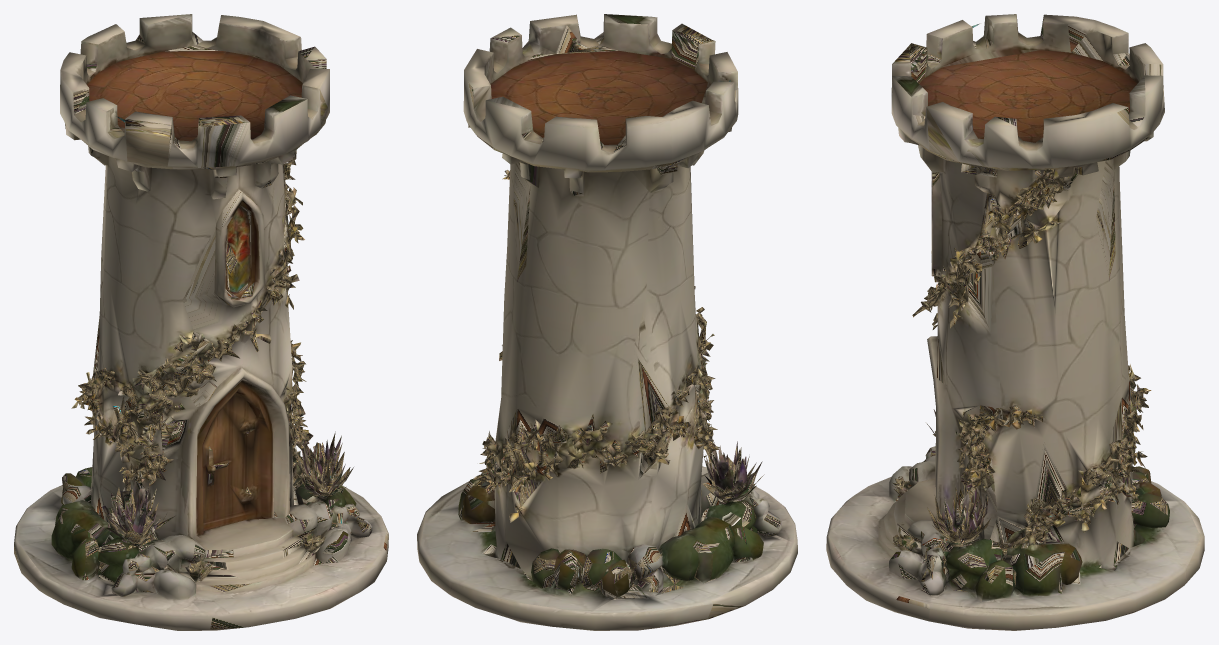
The model's file is Elven_tower_base_Circ.glb.
The picture shows the model from 3 angles, left to right: view 1: azimuth 30°, elevation 25°; view 2: azimuth 150°, elevation 25°; view 3: azimuth 270°, elevation 25°; orthographic projection.
Visible parts, largest first — view 1: Elven_tower_base_Circ; view 2: Elven_tower_base_Circ; view 3: Elven_tower_base_Circ.
Part boxes in pixels (x1,y1,x2,y2): Elven_tower_base_Circ: [14, 14, 388, 630]; Elven_tower_base_Circ: [417, 14, 797, 630]; Elven_tower_base_Circ: [826, 14, 1204, 630].
Bounding box in the file's own units: 1.35 × 1.9 × 1.35.
Materials: 1 (1 with a texture image).
